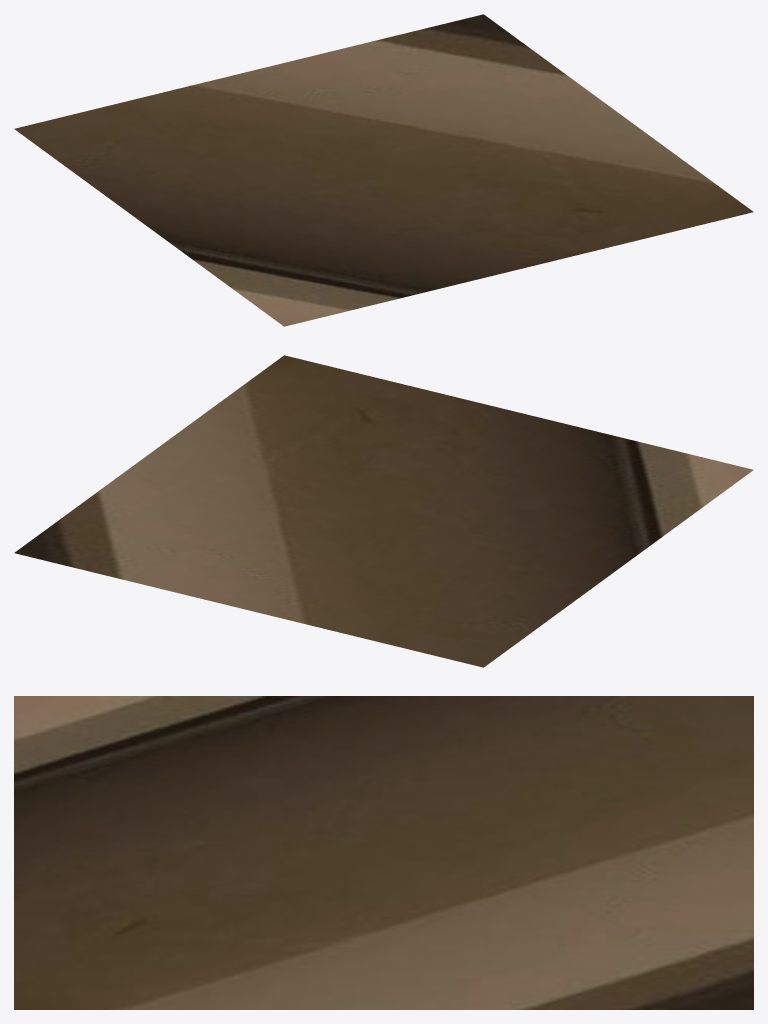
3 views of the same model, one above another, from view 1: azimuth 30°, elevation 25°; view 2: azimuth 150°, elevation 25°; view 3: azimuth 270°, elevation 25° (orthographic). The views are drawn at different scales.
Size of the model in its own units: 2.07 by 3.72e-05 by 2.06.
Materials: 1 (1 with a texture image).
